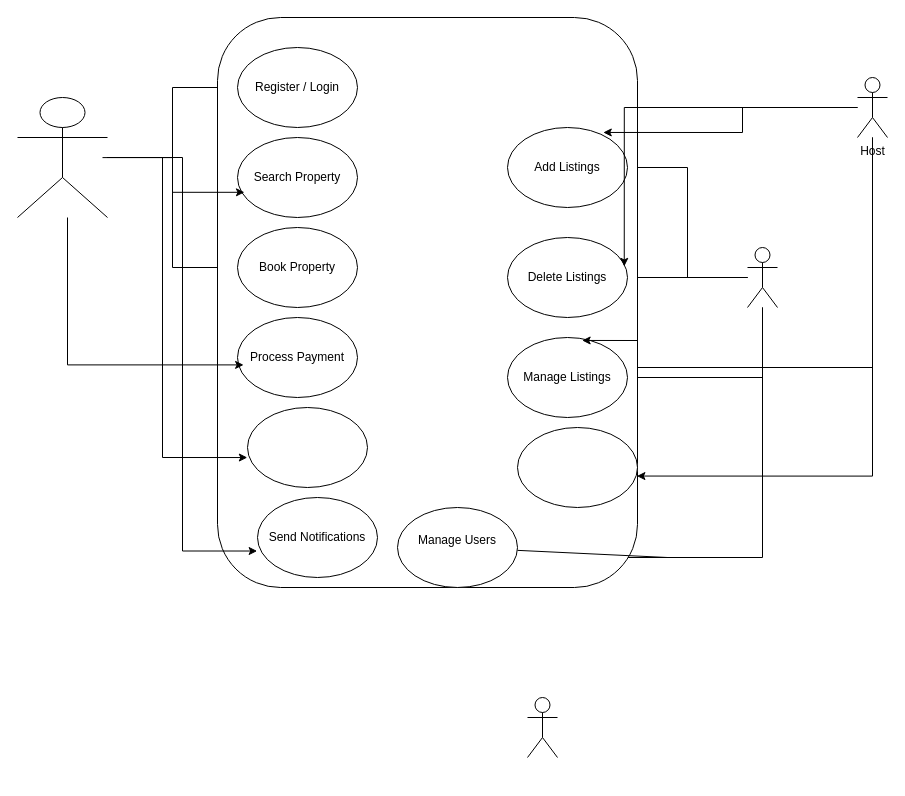
Some shapes in this 905 by 796 pixel diagram are drawn without their labels. Here are the shapes that lost their labels. From the top down, the centre of each, then its label:
At [62,157]: "Guest".
At [762,277]: "Admin".
At [307,447]: "Leave Review".
At [577,467]: "Receive Payments".
At [542,727]: "Payment Gateway".
